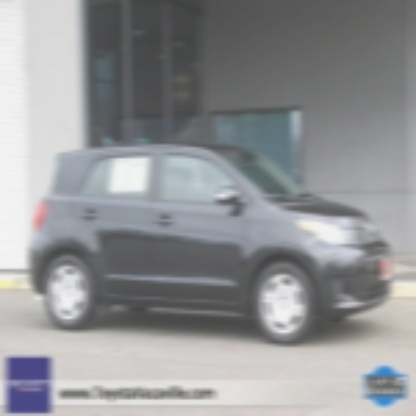Vehicle: (28, 139, 396, 350)
